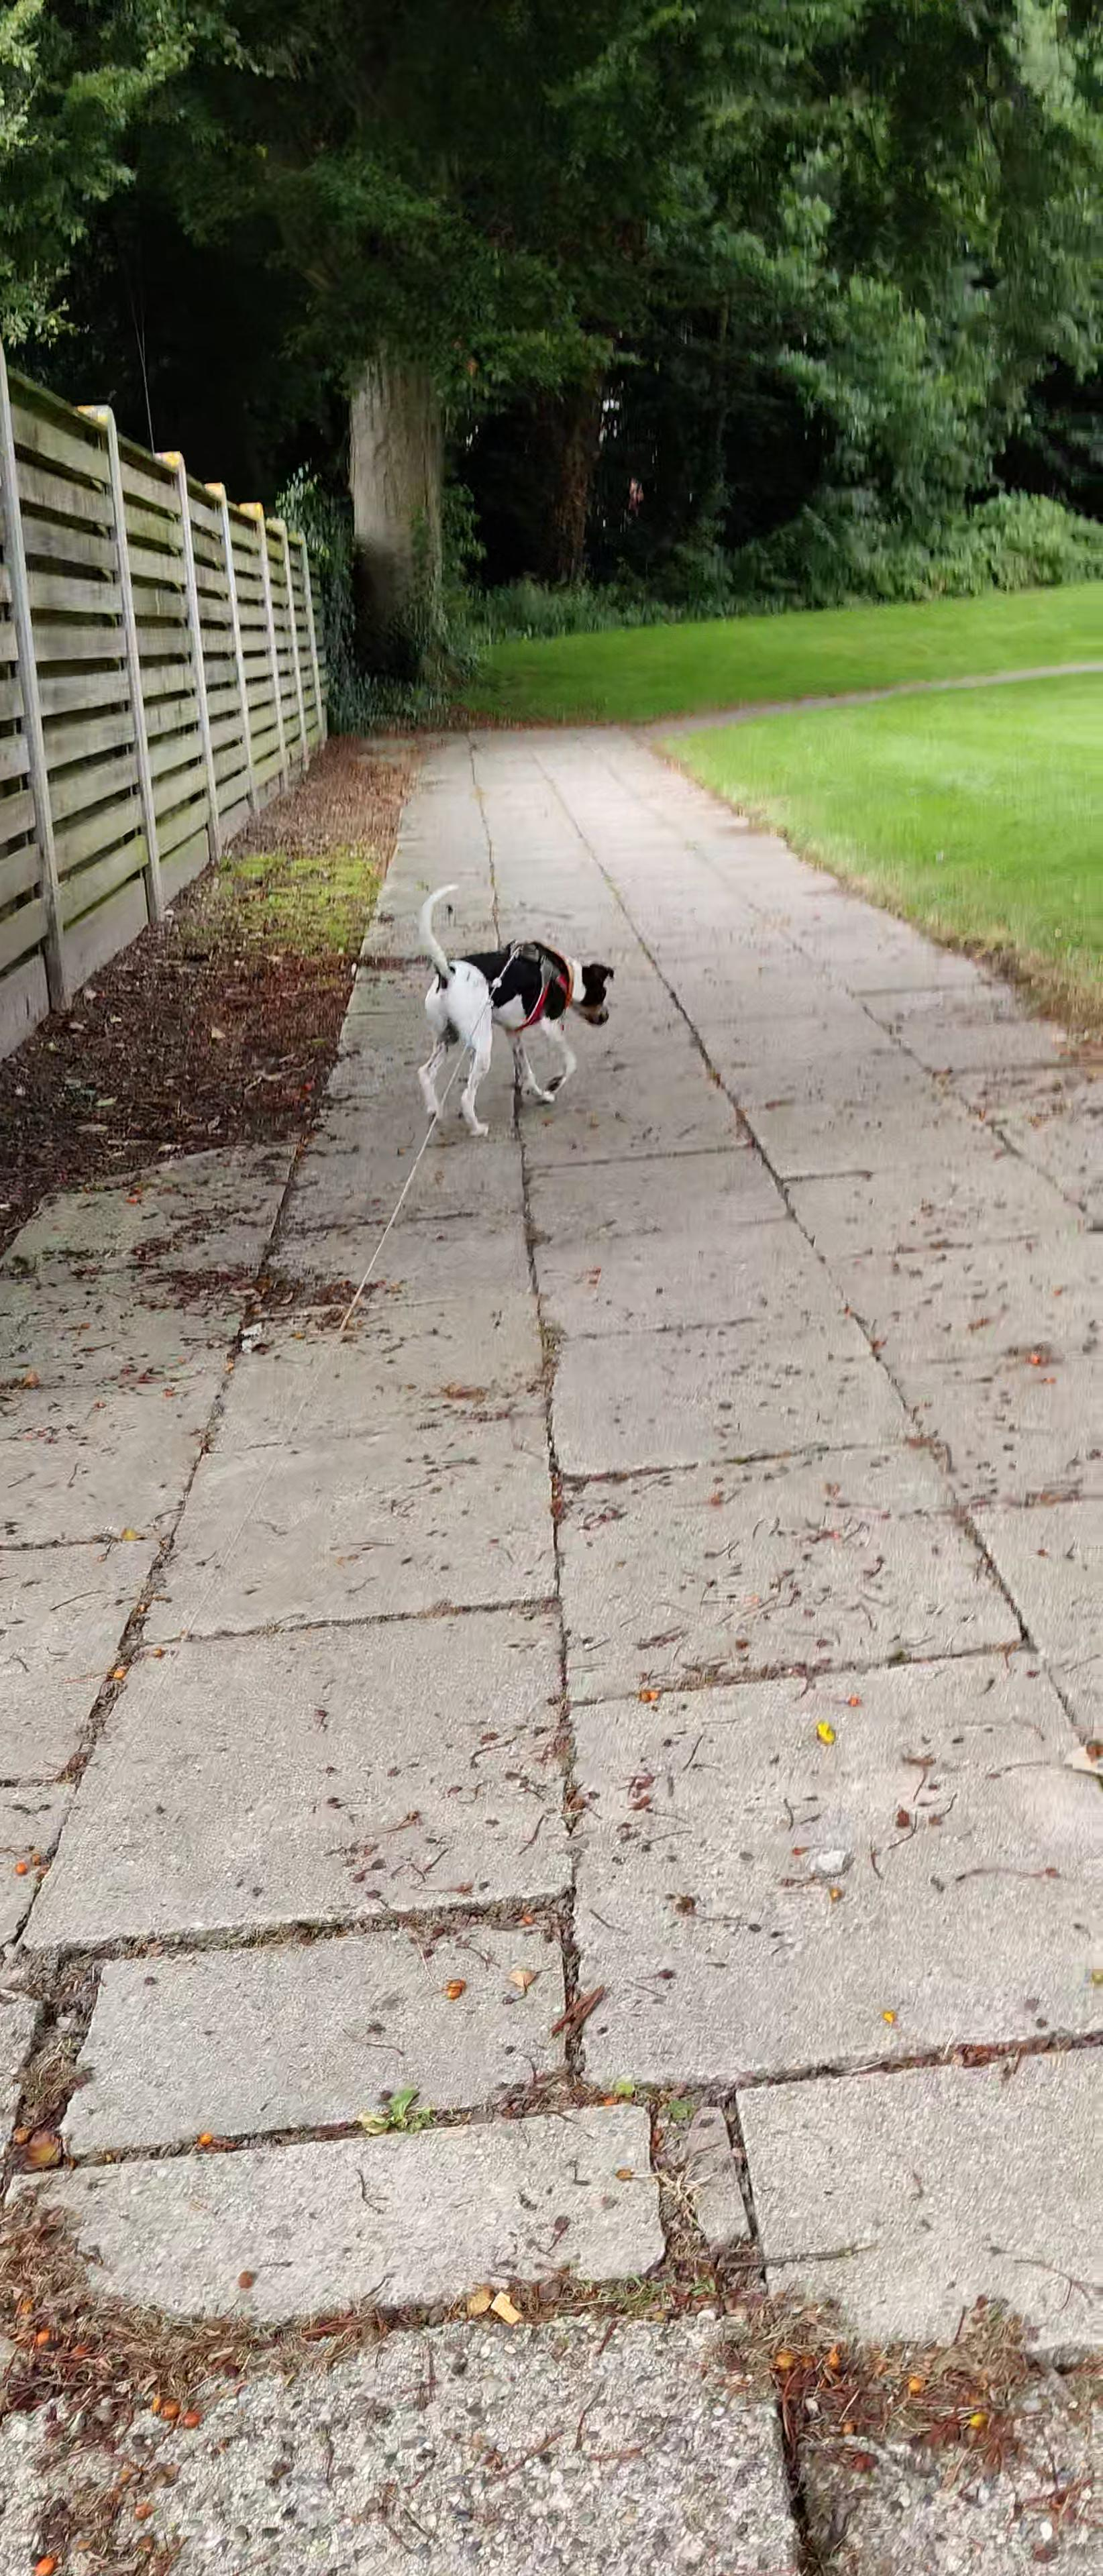Dog: (393, 884, 625, 1137)
